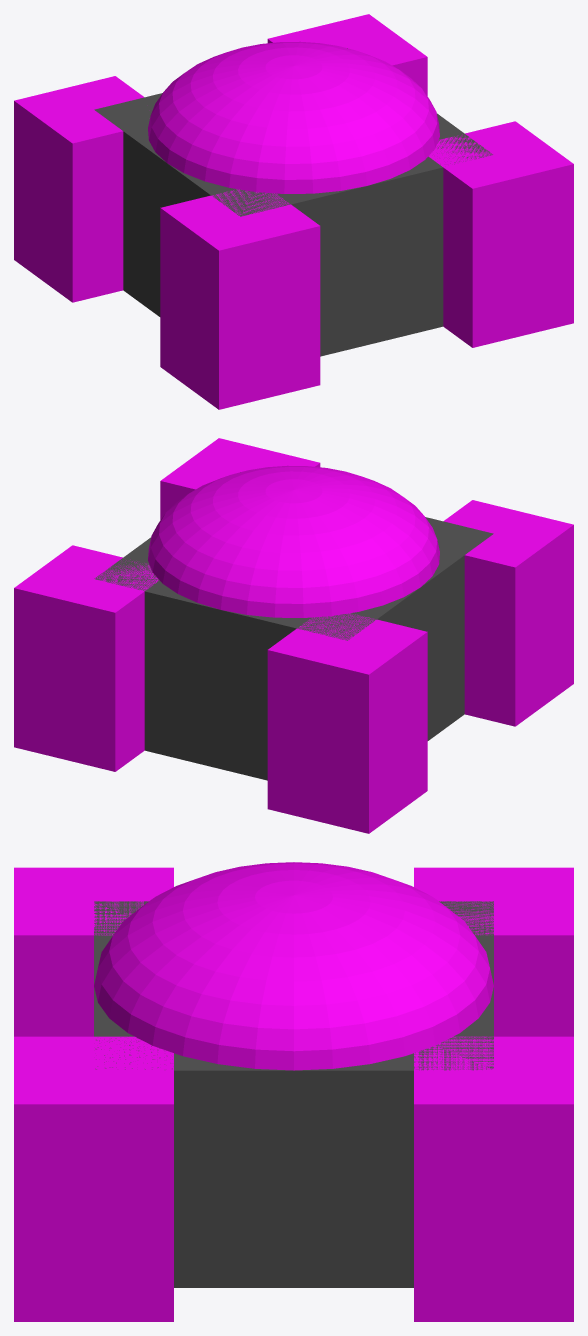
File: vanguardCommandCenter.glb
The picture shows the model from 3 angles, top to bottom: view 1: azimuth 30°, elevation 25°; view 2: azimuth 150°, elevation 25°; view 3: azimuth 270°, elevation 25°; orthographic projection. The views are drawn at different scales.
Visible parts, largest first — view 1: Sphere, Cube.001, Cube.003, Cube, Cube.002, Cube.004; view 2: Sphere, Cube.001, Cube.002, Cube.004, Cube.003, Cube; view 3: Sphere, Cube.001, Cube, Cube.004, Cube.002, Cube.003.
Boxes of the visible parts, x1,y1,x2,y2 form: Sphere: (148, 41, 439, 193); Cube.001: (94, 48, 492, 356); Cube.003: (160, 189, 320, 409); Cube: (428, 121, 573, 347); Cube.002: (14, 76, 143, 302); Cube.004: (267, 14, 427, 95); Sphere: (148, 465, 439, 617); Cube.001: (94, 472, 493, 780); Cube.002: (267, 613, 427, 833); Cube.004: (14, 545, 158, 771); Cube.003: (444, 500, 573, 726); Cube: (160, 438, 320, 519); Sphere: (94, 862, 493, 1070); Cube.001: (94, 901, 493, 1287); Cube: (14, 1036, 173, 1321); Cube.004: (414, 1036, 573, 1321); Cube.002: (414, 867, 573, 1036); Cube.003: (14, 867, 173, 1036).
Size of the model in its own units: 28 by 17 by 28.
